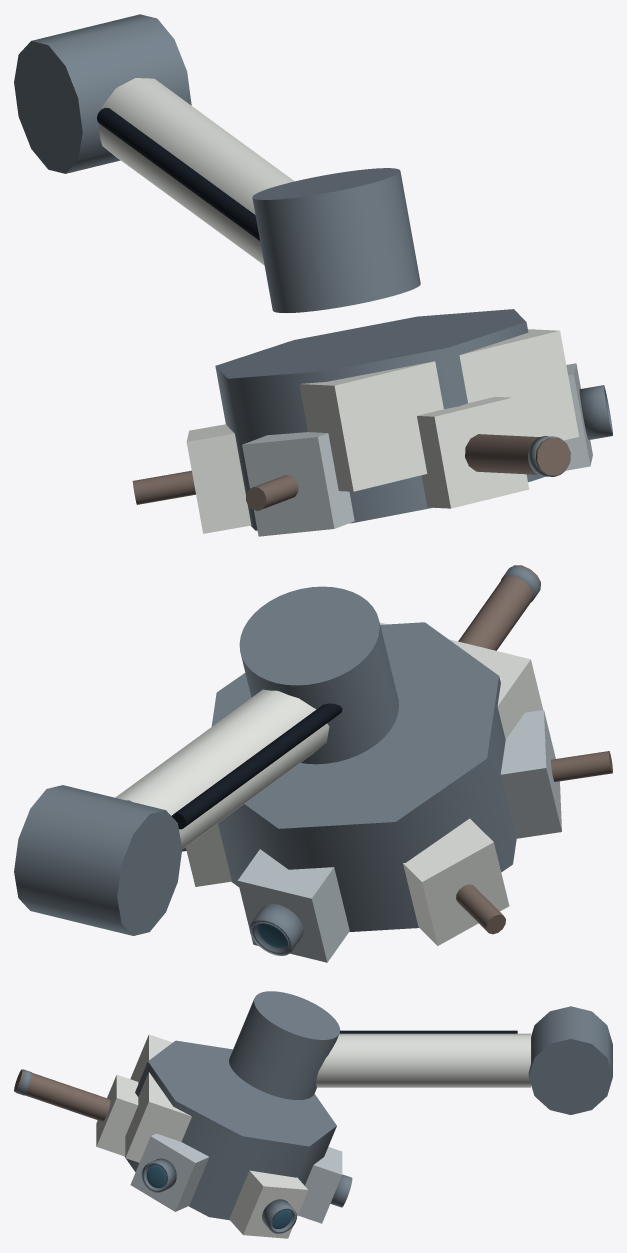
File: perseverance_arm.shoulder_azimuth.shoulder_elevation.elbow.glb
3 views of the same model, one above another, from view 1: azimuth 30°, elevation 25°; view 2: azimuth 150°, elevation 25°; view 3: azimuth 270°, elevation 25° (orthographic). The views are drawn at different scales.
Visible parts, largest first — view 1: perseverance_arm.shoulder_azimuth.shoulder_elevation.elbow.f (×3), perseverance_turret.mesh_Pale_thermal_blanket, perseverance_turret.mesh_Machined_steel, perseverance_arm.shoulder_azimuth.shoulder_elevation.elbow.m, perseverance_turret.contact_sensor.mesh_Satin_aluminum, perseverance_turret.drill.mesh_Pale_thermal_blanket, perseverance_turret.gdrt.mesh_Pale_thermal_blanket, perseverance_turret.drill.mesh_Heat-stained_alloy, perseverance_turret.gdrt.mesh_Heat-stained_alloy, perseverance_turret.pixl.aperture.mesh_Machined_steel, perseverance_turret.pixl.mesh_Satin_aluminum, perseverance_turret.contact_sensor.mesh_Heat-stained_alloy; view 2: perseverance_turret.mesh_Machined_steel, perseverance_arm.shoulder_azimuth.shoulder_elevation.elbow.f (×3), perseverance_arm.shoulder_azimuth.shoulder_elevation.elbow.m, perseverance_turret.gdrt.mesh_Pale_thermal_blanket, perseverance_turret.watson.mesh_Satin_aluminum, perseverance_turret.contact_sensor.mesh_Satin_aluminum, perseverance_turret.mesh_Pale_thermal_blanket, perseverance_turret.drill.mesh_Heat-stained_alloy, perseverance_turret.sherloc.mesh_Pale_thermal_blanket, perseverance_turret.watson.aperture.mesh_Machined_steel, perseverance_turret.contact_sensor.mesh_Heat-stained_alloy, perseverance_turret.gdrt.mesh_Heat-stained_alloy; view 3: perseverance_arm.shoulder_azimuth.shoulder_elevation.elbow.f (×3), perseverance_turret.mesh_Machined_steel, perseverance_arm.shoulder_azimuth.shoulder_elevation.elbow.m, perseverance_turret.mesh_Pale_thermal_blanket, perseverance_turret.sherloc.mesh_Pale_thermal_blanket, perseverance_turret.pixl.mesh_Satin_aluminum, perseverance_turret.drill.mesh_Pale_thermal_blanket, perseverance_turret.drill.mesh_Heat-stained_alloy, perseverance_turret.watson.mesh_Satin_aluminum, perseverance_turret.sherloc.aperture.mesh_Machined_steel, perseverance_turret.pixl.aperture.mesh_Machined_steel, perseverance_turret.watson.aperture.mesh_Machined_steel (+1 smaller).
Part boxes in pixels (left/top/right/bottom): perseverance_arm.shoulder_azimuth.shoulder_elevation.elbow.f (×3): left=97, top=78, right=420, bottom=312; perseverance_turret.mesh_Pale_thermal_blanket: left=299, top=329, right=578, bottom=491; perseverance_turret.mesh_Machined_steel: left=215, top=309, right=544, bottom=530; perseverance_arm.shoulder_azimuth.shoulder_elevation.elbow.m: left=14, top=14, right=191, bottom=173; perseverance_turret.contact_sensor.mesh_Satin_aluminum: left=242, top=432, right=354, bottom=536; perseverance_turret.drill.mesh_Pale_thermal_blanket: left=417, top=396, right=529, bottom=508; perseverance_turret.gdrt.mesh_Pale_thermal_blanket: left=186, top=424, right=251, bottom=533; perseverance_turret.drill.mesh_Heat-stained_alloy: left=465, top=434, right=570, bottom=475; perseverance_turret.gdrt.mesh_Heat-stained_alloy: left=132, top=470, right=195, bottom=504; perseverance_turret.pixl.aperture.mesh_Machined_steel: left=579, top=385, right=612, bottom=439; perseverance_turret.pixl.mesh_Satin_aluminum: left=564, top=363, right=592, bottom=470; perseverance_turret.contact_sensor.mesh_Heat-stained_alloy: left=246, top=475, right=298, bottom=510; perseverance_turret.mesh_Machined_steel: left=211, top=622, right=516, bottom=931; perseverance_arm.shoulder_azimuth.shoulder_elevation.elbow.f (×3): left=115, top=586, right=398, bottom=848; perseverance_arm.shoulder_azimuth.shoulder_elevation.elbow.m: left=14, top=785, right=182, bottom=935; perseverance_turret.gdrt.mesh_Pale_thermal_blanket: left=403, top=818, right=509, bottom=945; perseverance_turret.watson.mesh_Satin_aluminum: left=237, top=849, right=349, bottom=962; perseverance_turret.contact_sensor.mesh_Satin_aluminum: left=500, top=710, right=561, bottom=838; perseverance_turret.mesh_Pale_thermal_blanket: left=379, top=622, right=543, bottom=739; perseverance_turret.drill.mesh_Heat-stained_alloy: left=458, top=565, right=540, bottom=650; perseverance_turret.sherloc.mesh_Pale_thermal_blanket: left=185, top=823, right=231, bottom=886; perseverance_turret.watson.aperture.mesh_Machined_steel: left=249, top=903, right=303, bottom=955; perseverance_turret.contact_sensor.mesh_Heat-stained_alloy: left=551, top=751, right=612, bottom=781; perseverance_turret.gdrt.mesh_Heat-stained_alloy: left=456, top=884, right=505, bottom=934; perseverance_arm.shoulder_azimuth.shoulder_elevation.elbow.f (×3): left=229, top=991, right=530, bottom=1099; perseverance_turret.mesh_Machined_steel: left=124, top=1040, right=336, bottom=1220; perseverance_arm.shoulder_azimuth.shoulder_elevation.elbow.m: left=528, top=1006, right=612, bottom=1114; perseverance_turret.mesh_Pale_thermal_blanket: left=125, top=1034, right=191, bottom=1162; perseverance_turret.sherloc.mesh_Pale_thermal_blanket: left=229, top=1170, right=307, bottom=1238; perseverance_turret.pixl.mesh_Satin_aluminum: left=130, top=1133, right=209, bottom=1211; perseverance_turret.drill.mesh_Pale_thermal_blanket: left=96, top=1074, right=138, bottom=1156; perseverance_turret.drill.mesh_Heat-stained_alloy: left=14, top=1069, right=110, bottom=1121; perseverance_turret.watson.mesh_Satin_aluminum: left=298, top=1147, right=342, bottom=1223; perseverance_turret.sherloc.aperture.mesh_Machined_steel: left=262, top=1199, right=296, bottom=1234; perseverance_turret.pixl.aperture.mesh_Machined_steel: left=141, top=1158, right=176, bottom=1192; perseverance_turret.watson.aperture.mesh_Machined_steel: left=330, top=1174, right=352, bottom=1207.
Size of the model in its own units: 0.6024 by 0.5258 by 1.35.
